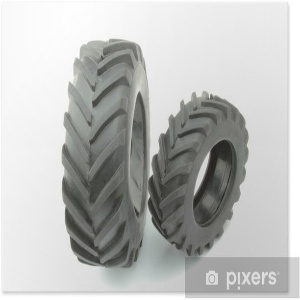tire: (58, 36, 149, 271), (142, 83, 249, 256)
